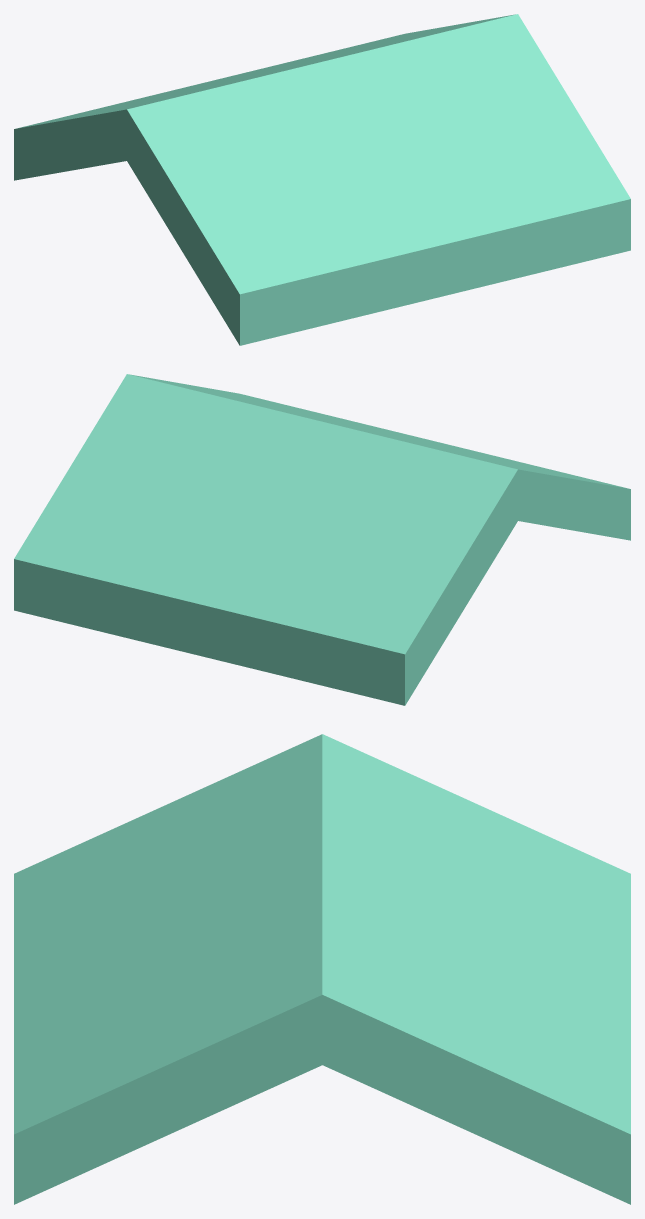
File: roofGable_2.fbx
3 views of the same model, one above another, from view 1: azimuth 30°, elevation 25°; view 2: azimuth 150°, elevation 25°; view 3: azimuth 270°, elevation 25° (orthographic). The views are drawn at different scales.
Visible parts, largest first — view 1: roofGableTop; view 2: roofGableTop; view 3: roofGableTop.
Boxes of the visible parts, <box> form: roofGableTop: <box>14,14,630,345</box>; roofGableTop: <box>14,374,630,705</box>; roofGableTop: <box>14,734,630,1204</box>.
Bounding box in the file's own units: 100 × 37.59 × 100.
